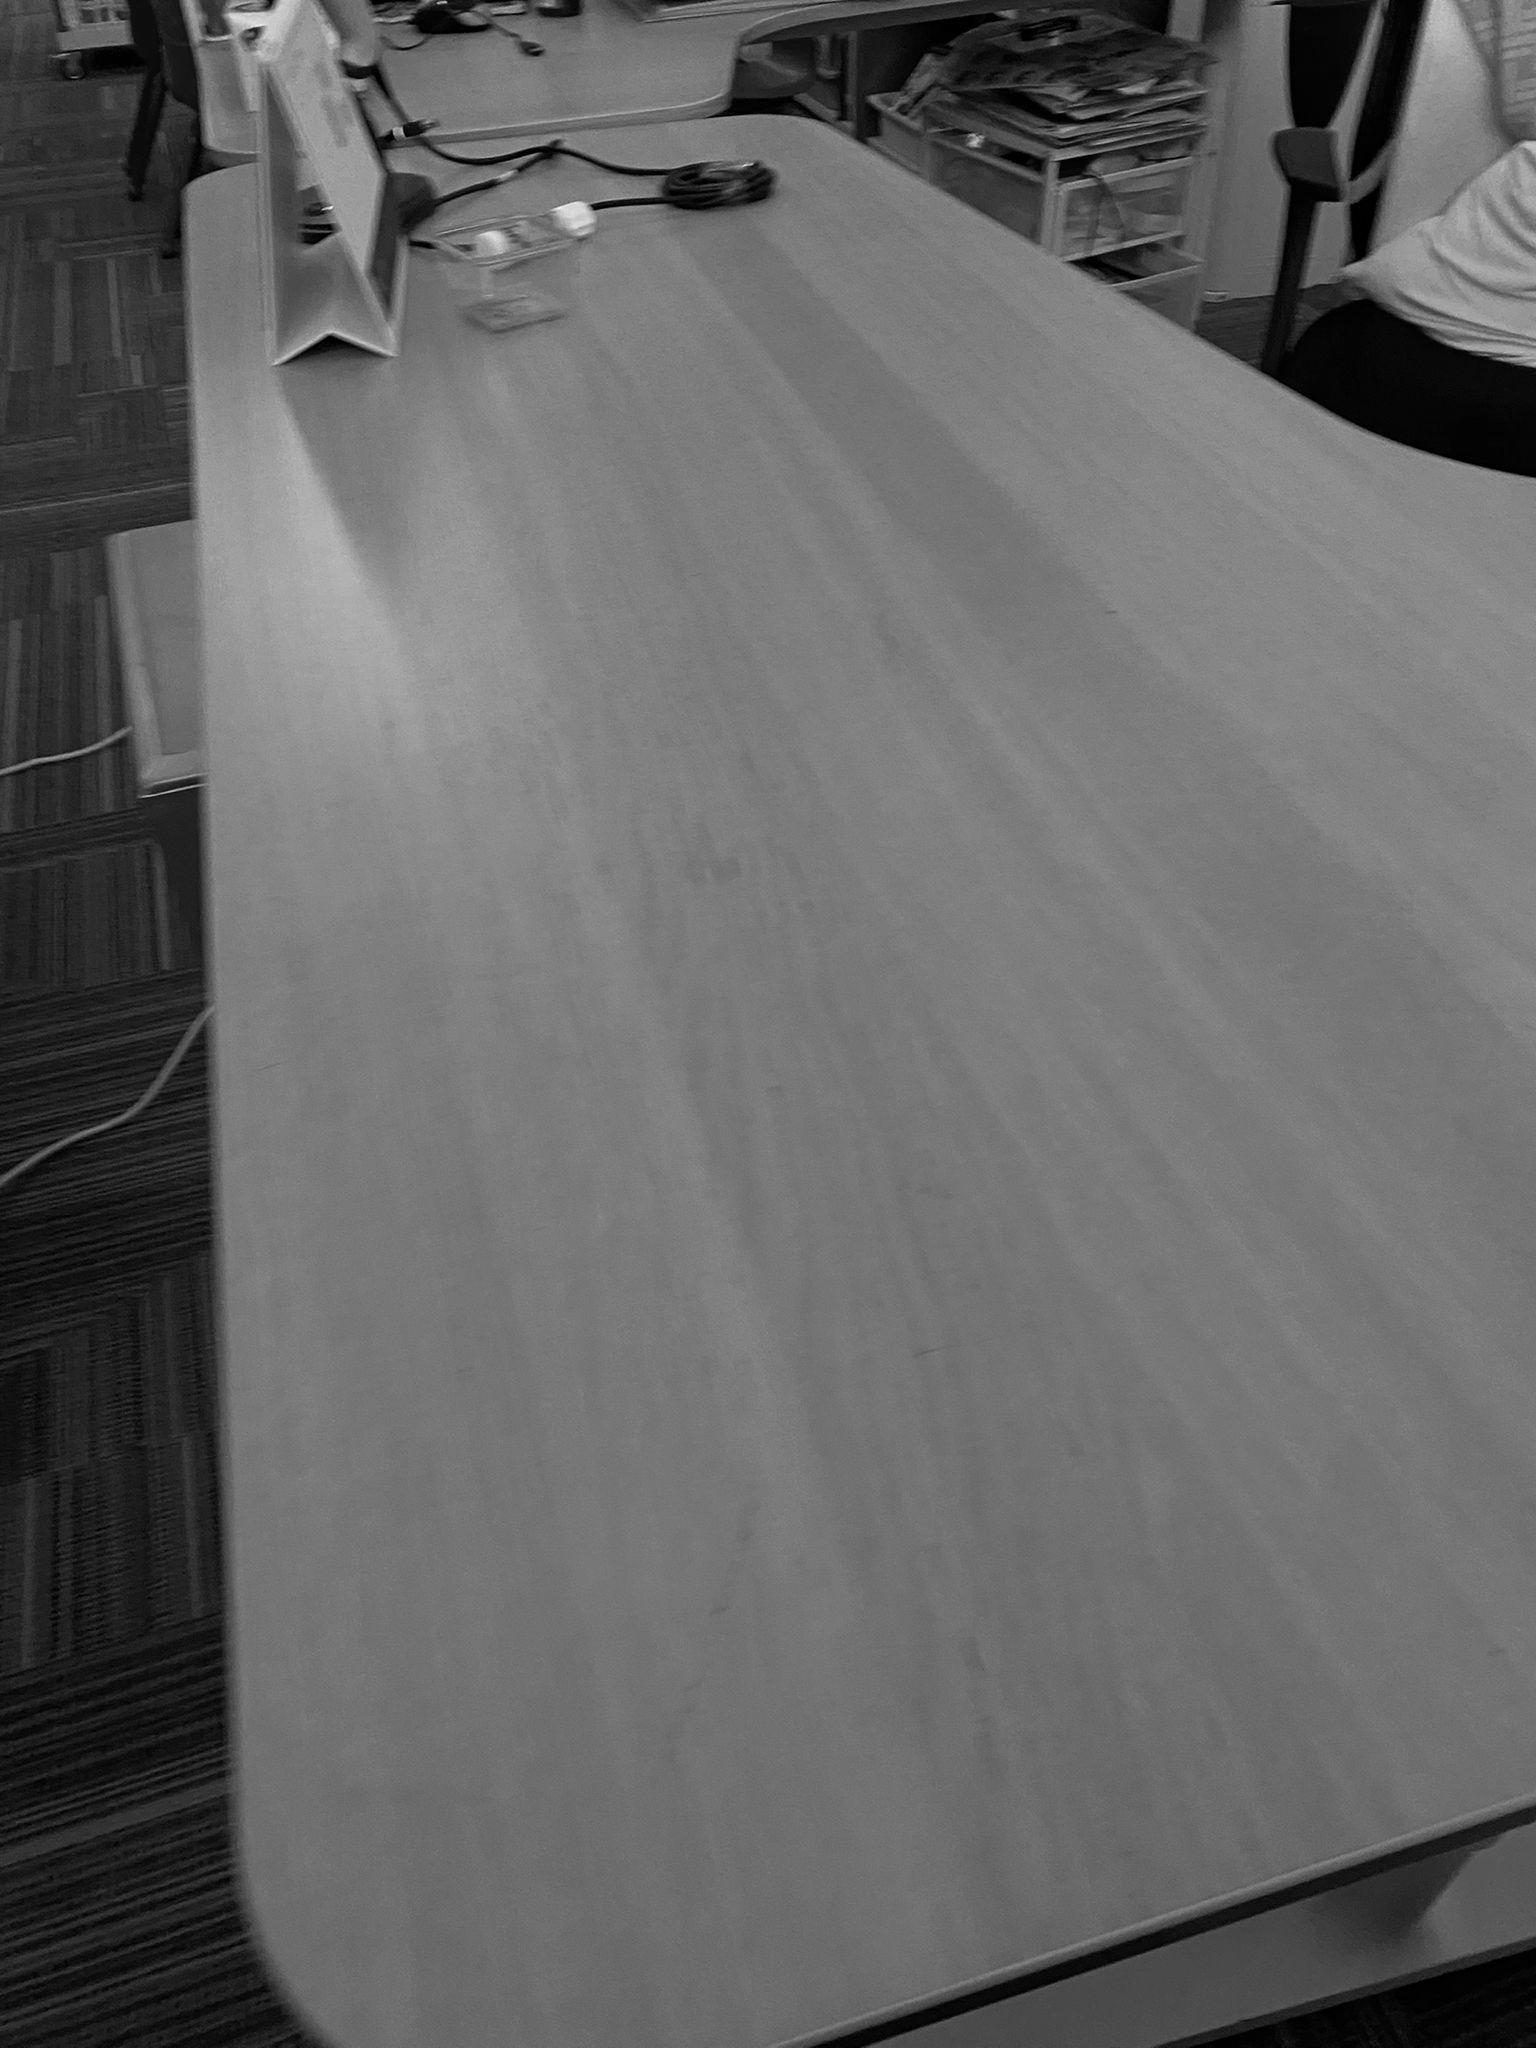Table: (186, 0, 1534, 2046)
